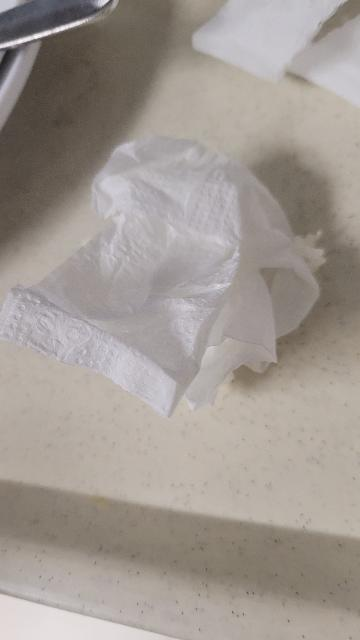Kagit: (0, 127, 309, 416)
